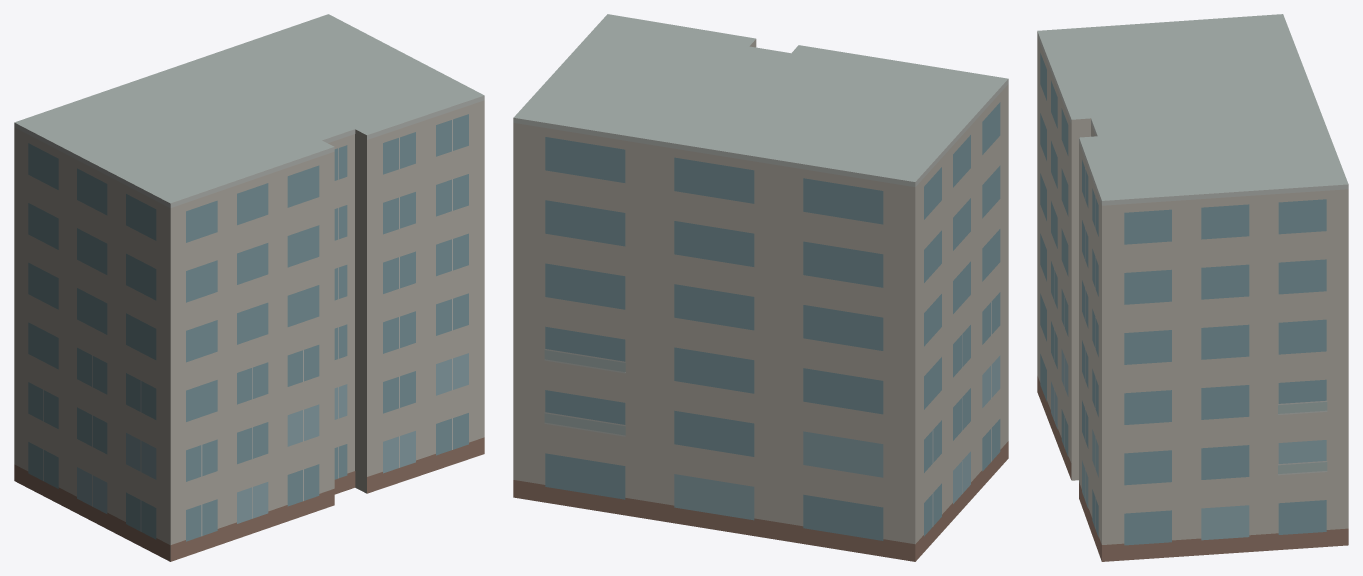
File: survey-upis-32973006.glb
3 renders of one model, left to right at view 1: azimuth 30°, elevation 25°; view 2: azimuth 150°, elevation 25°; view 3: azimuth 270°, elevation 25°, orthographic. The views are drawn at different scales.
Parts seen in each view (by area): view 1: survey-upis-32973006.tmp; view 2: survey-upis-32973006.tmp; view 3: survey-upis-32973006.tmp.
Part boxes in pixels (bbox=[...]): survey-upis-32973006.tmp: bbox=[14, 14, 484, 561]; survey-upis-32973006.tmp: bbox=[513, 14, 1008, 561]; survey-upis-32973006.tmp: bbox=[1037, 14, 1348, 561].
Size of the model in its own units: 20.34 by 18.3 by 14.32.
